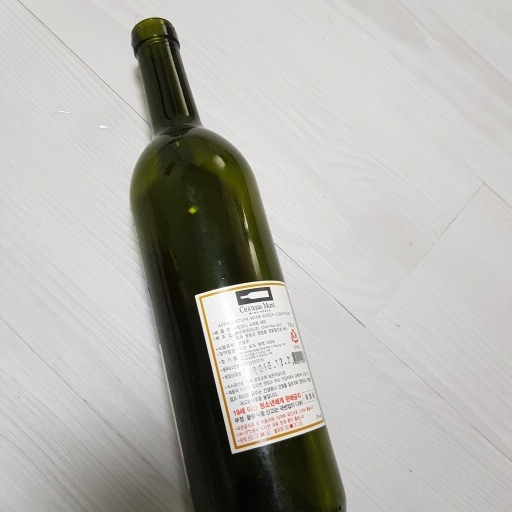Glass_2: (126, 16, 349, 512)
